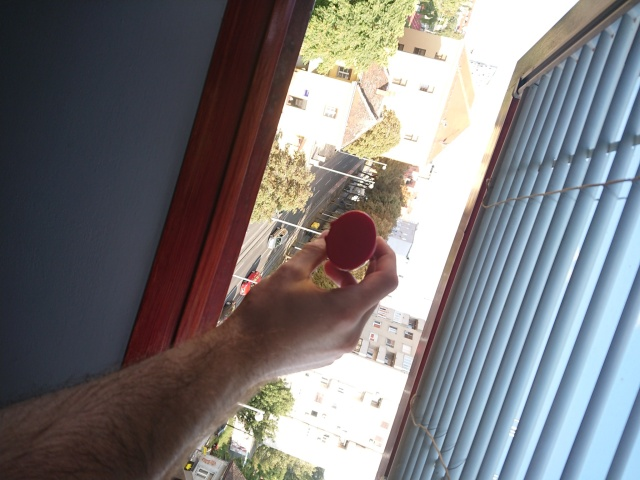Kotanyi Curry Spices Mix 70g: (322, 207, 379, 274)
